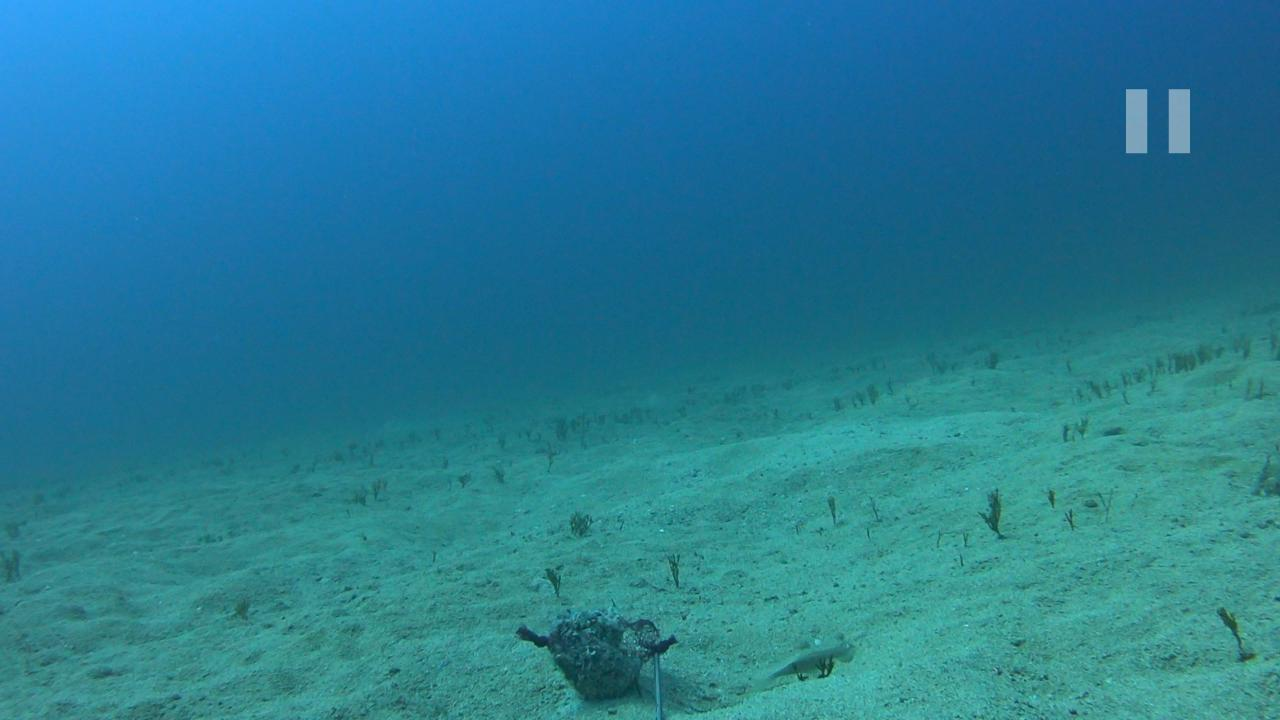bothus: (742, 620, 863, 689)
